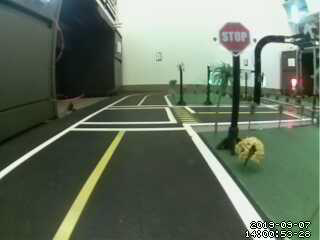Stop_Sign: (213, 19, 257, 57)
